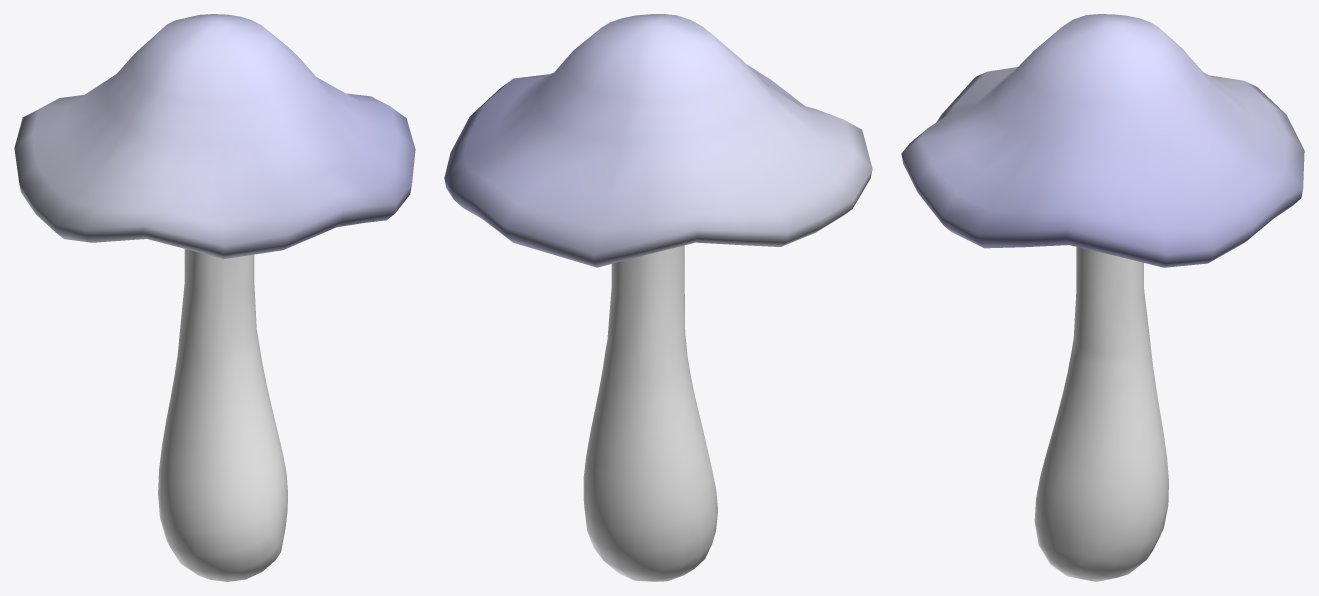
The model's file is Mushroom_0001_0005.fbx.
3 views of the same model, side by side, from view 1: azimuth 30°, elevation 25°; view 2: azimuth 150°, elevation 25°; view 3: azimuth 270°, elevation 25° (orthographic). The views are drawn at different scales.
Visible parts, largest first — view 1: Mushroom_0001_0005; view 2: Mushroom_0001_0005; view 3: Mushroom_0001_0005.
Part boxes in pixels (left/top/right/bottom): Mushroom_0001_0005: left=14, top=14, right=415, bottom=581; Mushroom_0001_0005: left=444, top=14, right=872, bottom=581; Mushroom_0001_0005: left=901, top=14, right=1304, bottom=581.
Size of the model in its own units: 0.1817 by 0.2693 by 0.1794.
1 material, 1 textured.
